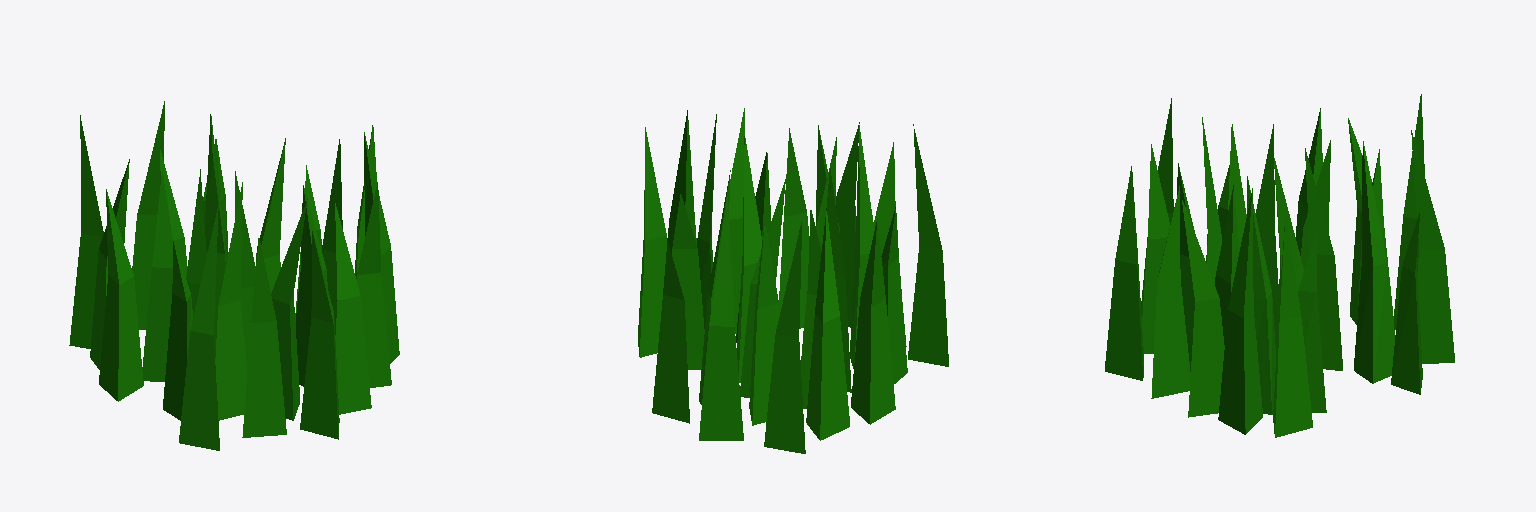
Rendered from grass0.obj.
3 views of the same model, side by side, from view 1: azimuth 30°, elevation 25°; view 2: azimuth 150°, elevation 25°; view 3: azimuth 270°, elevation 25° (orthographic).
Parts seen in each view (by area): view 1: Object_50; view 2: Object_50; view 3: Object_50.
Boxes of the visible parts, <box> form: Object_50: <box>69,101,399,450</box>; Object_50: <box>638,108,948,453</box>; Object_50: <box>1105,94,1454,437</box>.
Bounding box in the file's own units: 6.1 × 5.18 × 6.98.